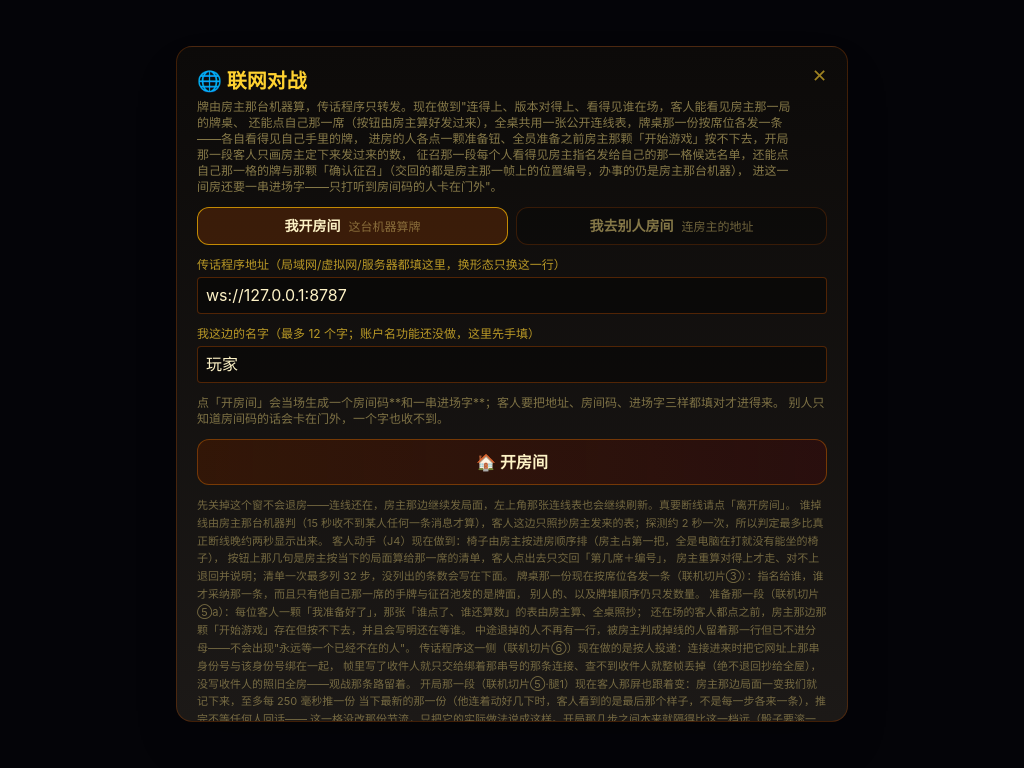
主菜单的联网大厅：连得上、看得懂、不夸大 › 开房间：当场生成六位房间码与一串进场字，连接地址是"地址/房间码/本机身份号?k=进场字"
Click the button "🏠 开房间" at (512, 462), box [197,439,827,485]
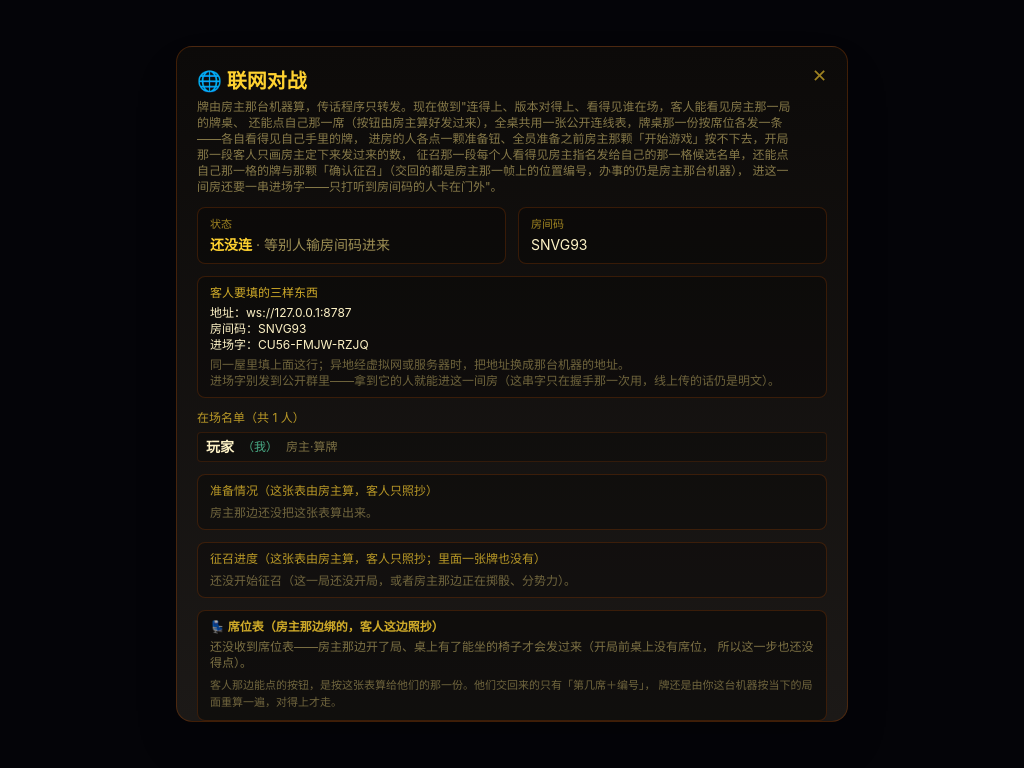
Now the text "等别人输房间码进来" is shown, box [264,236,390,253]
